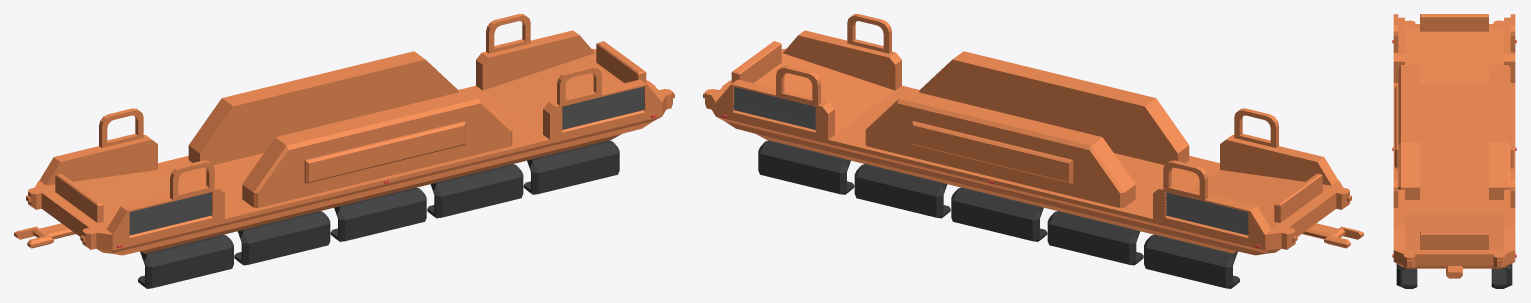
Rendered from 04 Lorry.FBX.
3 views of the same model, side by side, from view 1: azimuth 30°, elevation 25°; view 2: azimuth 150°, elevation 25°; view 3: azimuth 270°, elevation 25° (orthographic). The views are drawn at different scales.
Visible parts, largest first — view 1: Train_3; view 2: Train_3; view 3: Train_3.
Part boxes in pixels (left/top/right/bottom): Train_3: left=14, top=14, right=674, bottom=288; Train_3: left=703, top=14, right=1363, bottom=288; Train_3: left=1392, top=14, right=1516, bottom=288.
Size of the model in its own units: 4388 by 793 by 914.
